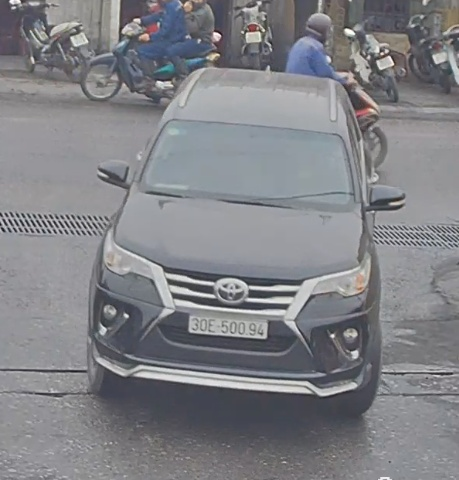vehicle plate: (181, 309, 274, 339)
